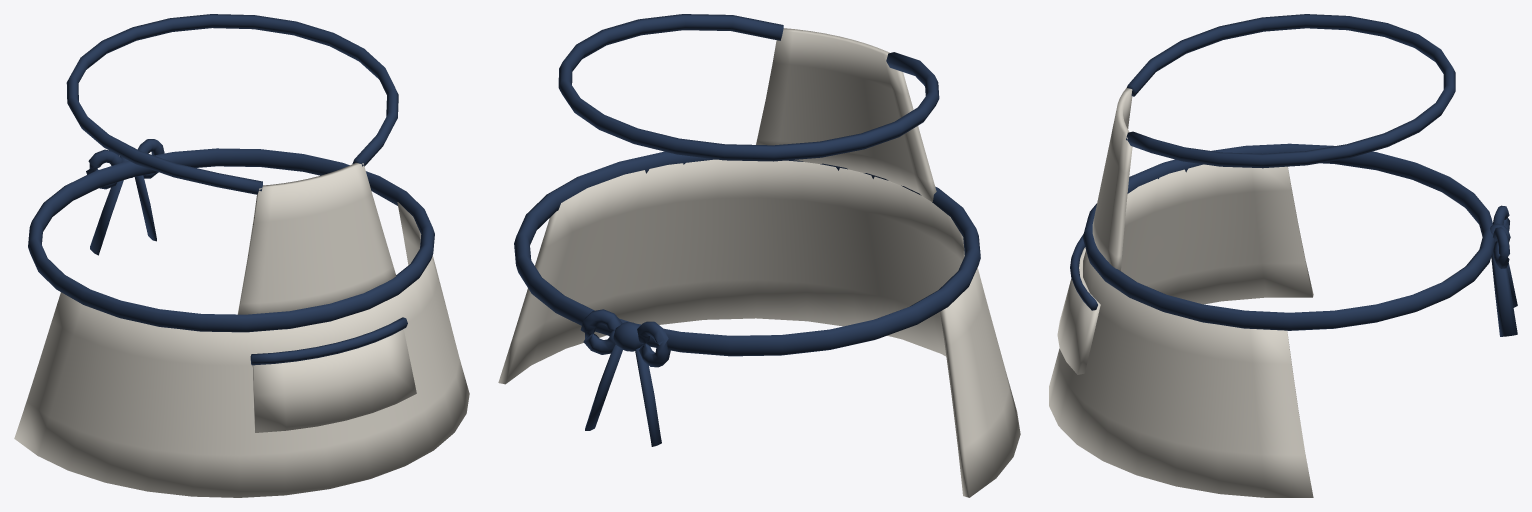
File: cuello_delantal.glb
3 views of the same model, side by side, from view 1: azimuth 30°, elevation 25°; view 2: azimuth 150°, elevation 25°; view 3: azimuth 270°, elevation 25° (orthographic). The views are drawn at different scales.
Parts seen in each view (by area): view 1: cuello_delantal; view 2: cuello_delantal; view 3: cuello_delantal.
Boxes of the visible parts, box(x1,y1,x2,y2) form: cuello_delantal: box(14, 14, 469, 497); cuello_delantal: box(498, 14, 1020, 497); cuello_delantal: box(1049, 14, 1517, 497).
Size of the model in its own units: 0.96 by 0.7048 by 0.9352.
